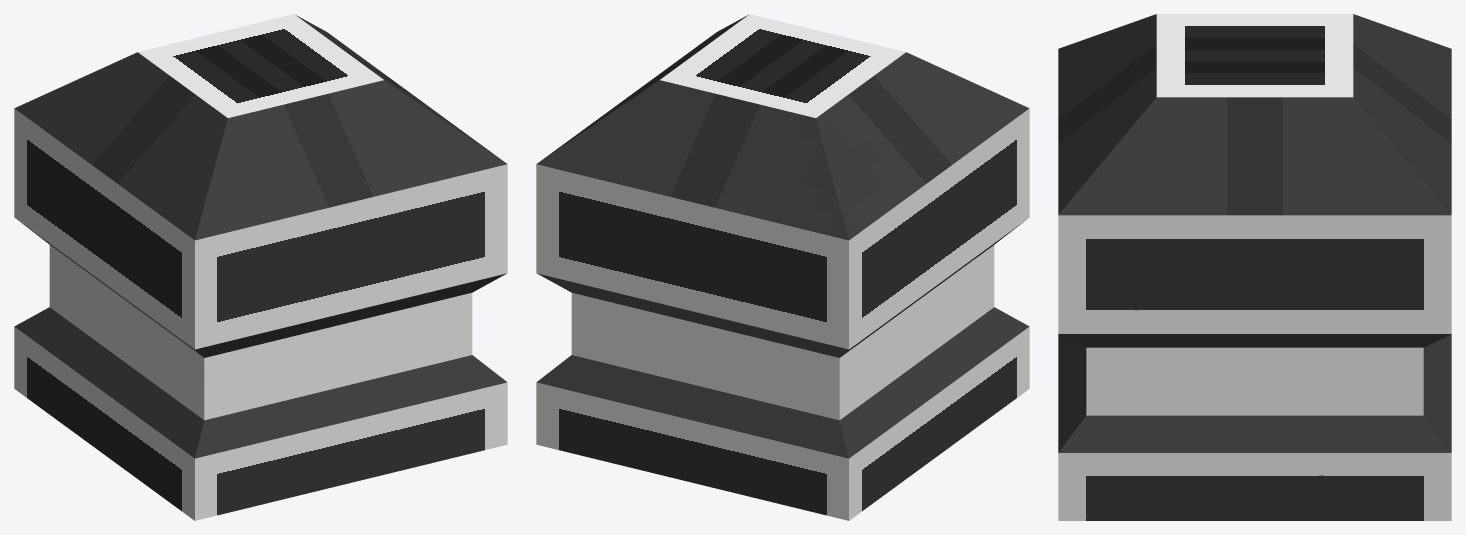
Rendered from PushObject.fbx.
3 renders of one model, left to right at view 1: azimuth 30°, elevation 25°; view 2: azimuth 150°, elevation 25°; view 3: azimuth 270°, elevation 25°, orthographic. The views are drawn at different scales.
Visible parts, largest first — view 1: HeadObject, BottomObject, LightObject; view 2: HeadObject, BottomObject, LightObject; view 3: HeadObject, BottomObject, LightObject.
Boxes of the visible parts, x1,y1,x2,y2 form: HeadObject: [14, 14, 507, 357]; BottomObject: [14, 307, 507, 520]; LightObject: [49, 245, 472, 420]; HeadObject: [536, 14, 1029, 357]; BottomObject: [536, 307, 1029, 520]; LightObject: [571, 245, 994, 420]; HeadObject: [1058, 14, 1451, 347]; BottomObject: [1058, 334, 1451, 520]; LightObject: [1086, 347, 1423, 415].
Bounding box in the file's own units: 87.5 × 93.75 × 87.5.
Materials: 1 (1 with a texture image).
